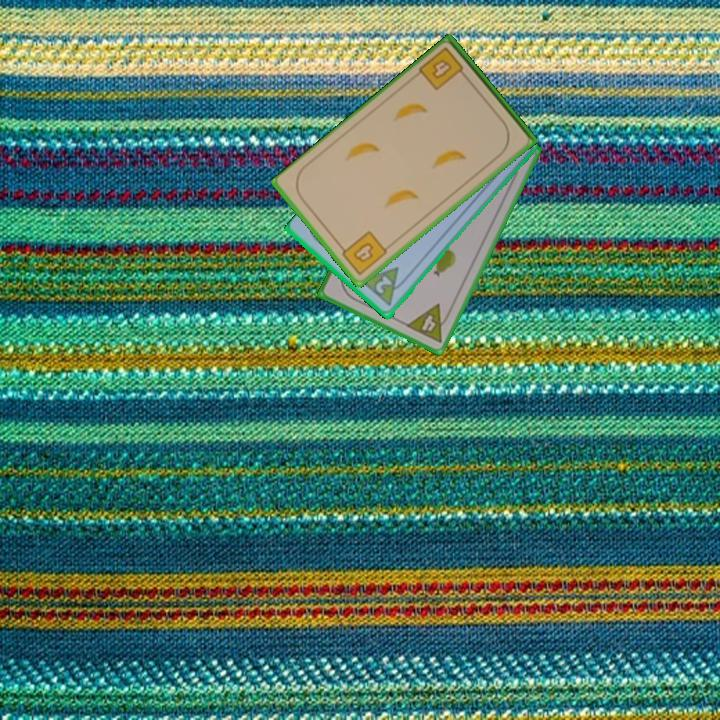2p: (358, 263, 411, 310)
4b: (335, 227, 390, 278), (416, 44, 471, 94)
4p: (402, 300, 455, 346)
